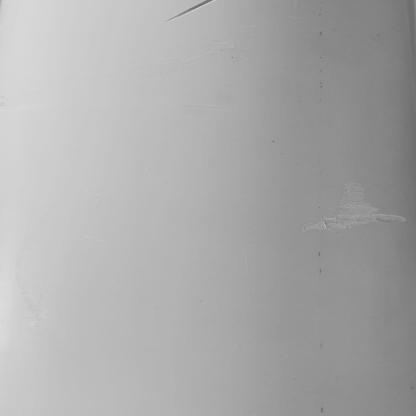sunshang: (303, 182, 407, 233), (166, 1, 216, 22)
